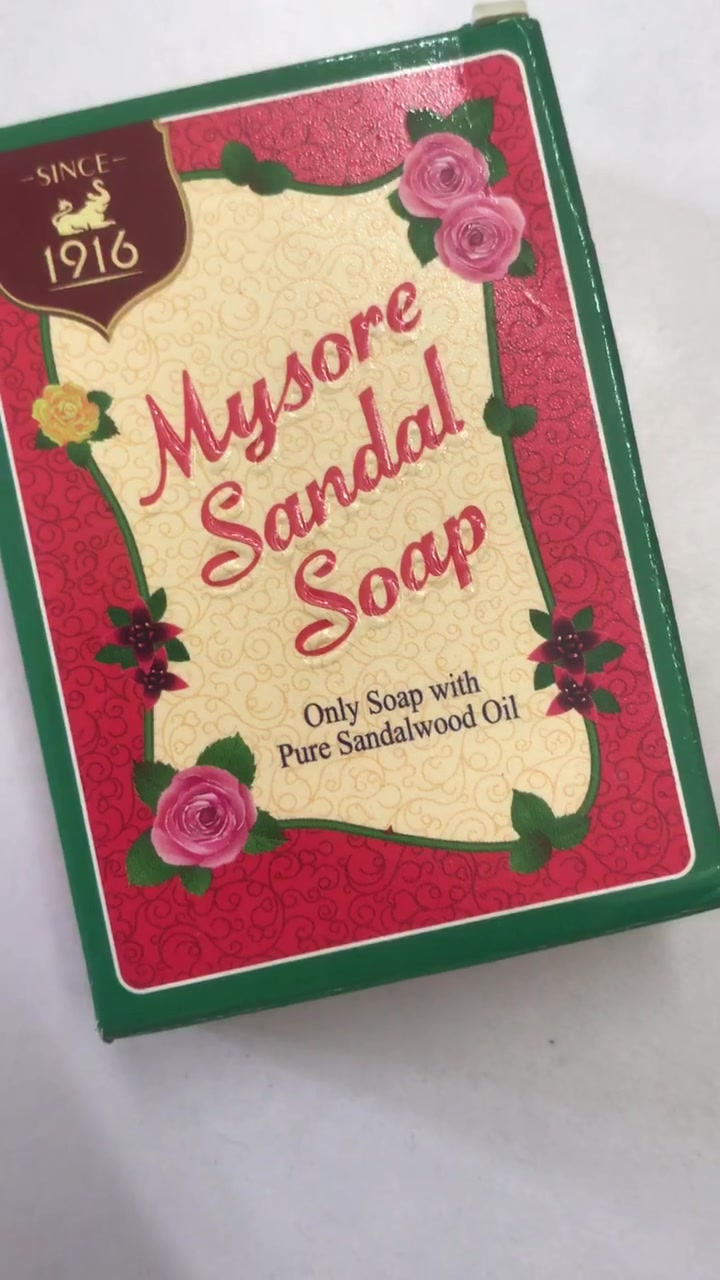mysore sandal soap: (2, 30, 720, 1026)
